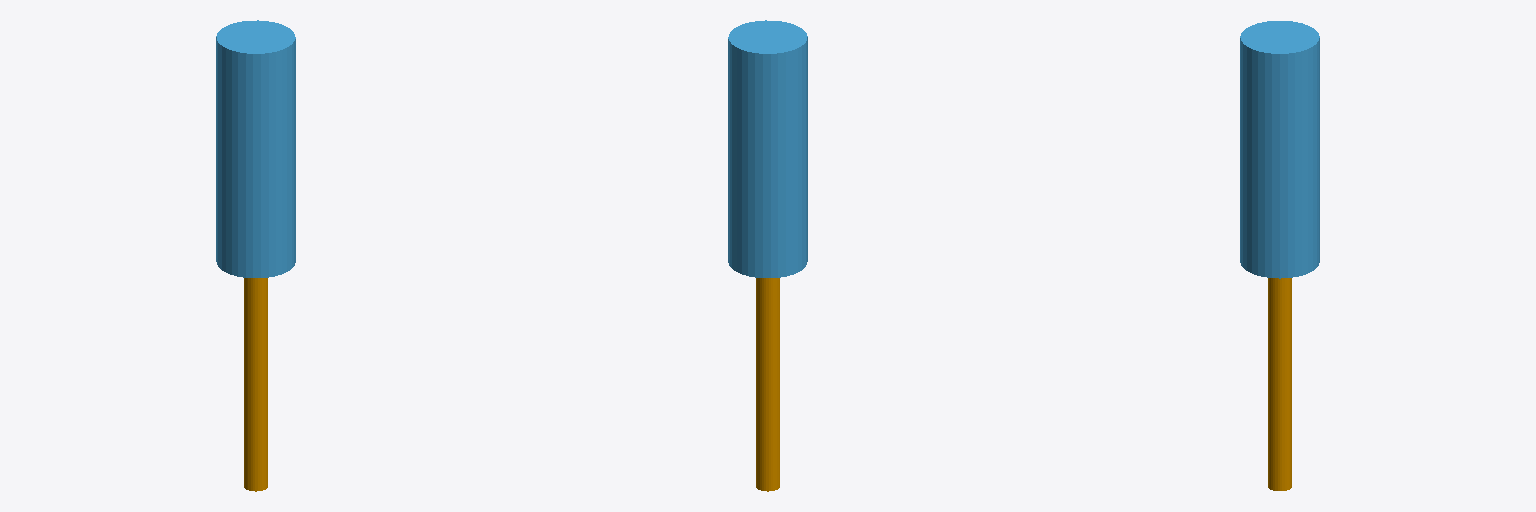
URDF robot description (screwdriver_on_the_table):
<?xml version="1.0" ?>
<!-- this is the one without any virtual joints and links -->
<robot name="screwdriver_on_the_table">
<link name="screwdriver_stick">
    <inertial>
      <mass value="0.05"/>
      <!-- <friction value="1.0"/> -->
      <inertia ixx="0.000041979" ixy="0.0" ixz="0.0" iyy="0.000041979" iyz="0.0" izz="0.000000625"/>
    </inertial>
    <visual>
        <origin rpy="0 0 0" xyz="0 0 0.05"/>
        <geometry>
            <cylinder radius="0.005" length="0.1"/>
        </geometry>
        <!-- <material name="White">
	 	    <color rgba="0.9 0.9 0.9 0.5"/>
        </material> -->
    </visual>
    <collision>
        <origin rpy="0 0 0" xyz="0 0 0.05"/>
        <geometry>
            <cylinder radius="0.005" length="0.1"/>
        </geometry>
    </collision>
</link>

<gazebo reference="screwdriver_body">
    <mu1>0.882769</mu1>
    <mu2>0.556497</mu2>
    <!-- Isaac Sim maps mu1/mu2 to PhysX static/dynamic friction during URDF→USD import -->
</gazebo>

<joint name="screwdriver_stick_body_joint" type="fixed">
    <parent link="screwdriver_stick"/>
    <child link="screwdriver_body"/>
    <origin rpy="0 0 0" xyz="0 0 0.1"/> 
    <axis xyz="0 0 1"/>
</joint>

<link name="screwdriver_body">
    <inertial>
      <mass value="0.074947"/>
      <inertia ixx="0.000067262" ixy="0.0" ixz="0.0" iyy="0.000067262" iyz="0.0" izz="0.000010000"/>
    </inertial>
    <visual>
        <origin rpy="0 0 0" xyz="0 0 0.05"/>
        <geometry>
            <cylinder radius="0.016016" length="0.1"/>
        </geometry>
        <!-- <material name="Red1">
	 	    <color rgba="0.9 0. 0. 0.5"/>
        </material> -->
    </visual>
    <collision>
        <origin rpy="0 0 0" xyz="0 0 0.05"/>
        <geometry>
            <cylinder radius="0.016016" length="0.1"/>
        </geometry>
    </collision>
</link>

<!-- <joint name="screwdriver_body_cap_joint" type="revolute">
    <parent link="screwdriver_body"/>
    <child link="screwdriver_cap"/>
    <origin rpy="0 0 0" xyz="0 0 0.1"/> 
    <axis xyz="0 0 1"/>
</joint>

<link name="screwdriver_cap">
    <inertial>
      <mass value="0.005"/>
      <inertia ixx="0.00001" ixy="0.0" ixz="0.0" iyy="0.000005" iyz="0.0" izz="0.000005"/>
    </inertial>
    <visual>
        <origin rpy="0 0 0" xyz="0 0 0.0006"/>
        <geometry>
            <cylinder radius="0.02" length="0.001"/>
        </geometry>
        <material name="Yellow">
	 	    <color rgba="0.9 0.9 0. 1.0"/>
        </material>
    </visual>
    <collision>
        <origin rpy="0 0 0" xyz="0 0 0.0005"/>
        <geometry>
            <cylinder radius="0.02" length="0.001"/>
        </geometry>
    </collision>
</link> -->

</robot>

--- What the picture shows (computed from the rendered views, not written in the file) ---
Views: 3 orthographic renders of the robot side by side, from view 1: azimuth 30°, elevation 25°; view 2: azimuth 150°, elevation 25°; view 3: azimuth 270°, elevation 25°.
Robot: screwdriver_on_the_table — 2 links, 1 joints (1 fixed); root link screwdriver_stick; default pose: all joints at 0.
Visible links, largest first — view 1: screwdriver_body, screwdriver_stick; view 2: screwdriver_body, screwdriver_stick; view 3: screwdriver_body, screwdriver_stick.
Link boxes in pixels (x1,y1,x2,y2): screwdriver_body: (216, 20, 295, 277); screwdriver_stick: (244, 278, 267, 491); screwdriver_body: (728, 20, 807, 277); screwdriver_stick: (756, 278, 779, 491); screwdriver_body: (1240, 21, 1319, 278); screwdriver_stick: (1268, 278, 1291, 490).
Bounding box of the posed robot: 0.032 × 0.032 × 0.2 m (x, y, z).
Geometry: primitives only (box / cylinder / sphere), no mesh files.
